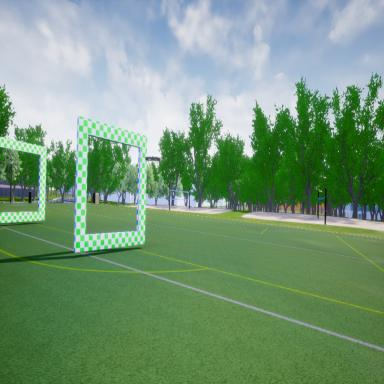gate: (72, 110, 148, 258)
